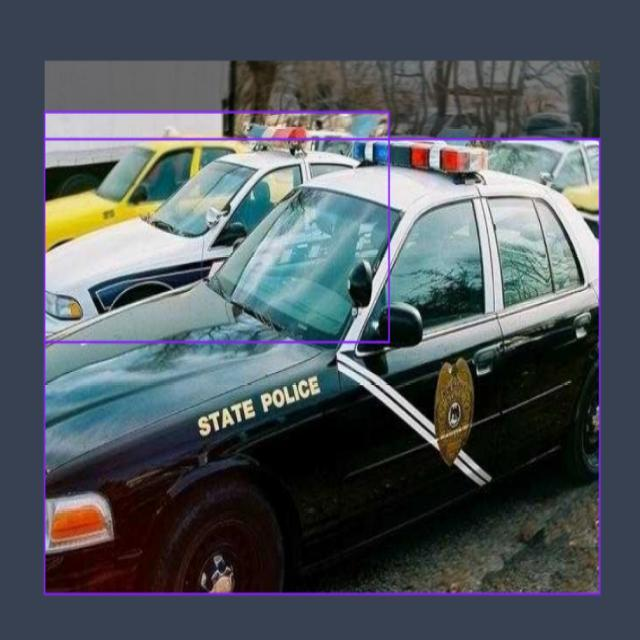police_car: (46, 143, 601, 594), (46, 136, 389, 346)
